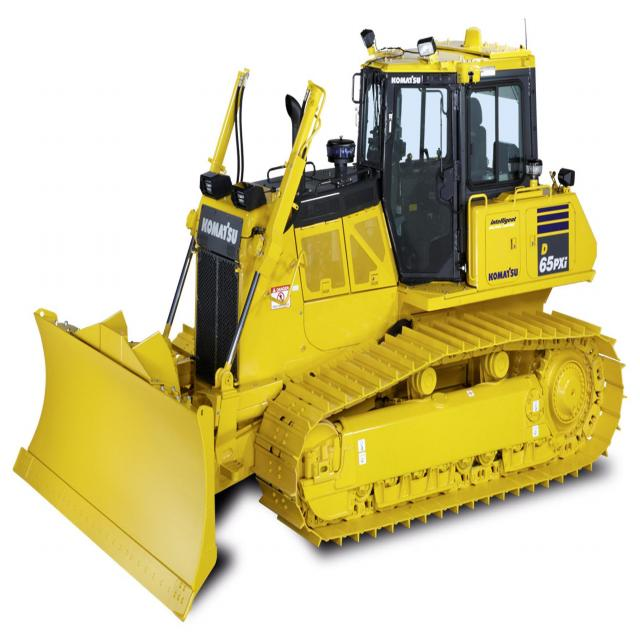Bulldozer: (17, 28, 632, 624)
